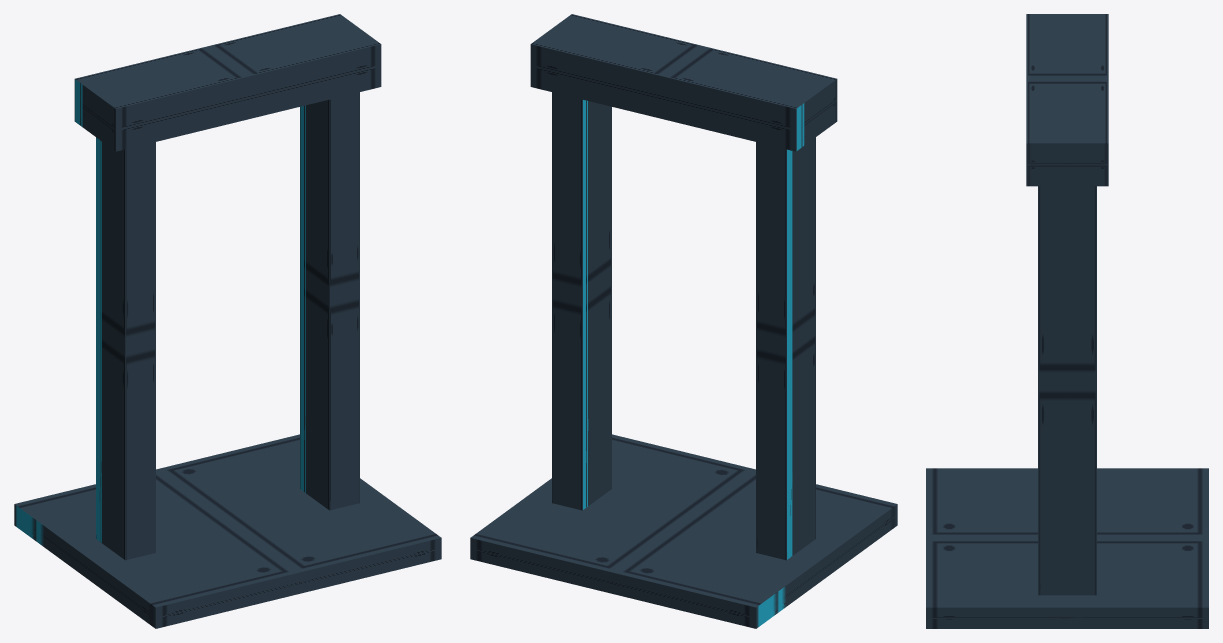
Rendered from Torre.obj.
3 renders of one model, left to right at view 1: azimuth 30°, elevation 25°; view 2: azimuth 150°, elevation 25°; view 3: azimuth 270°, elevation 25°, orthographic.
Visible parts, largest first — view 1: Cube, Cube.001, Cube.002, Cube.003; view 2: Cube, Cube.001, Cube.002, Cube.003; view 3: Cube, Cube.002, Cube.003.
Part boxes in pixels (<box>): Cube: <box>14,434,441,628</box>; Cube.001: <box>96,137,155,560</box>; Cube.002: <box>300,92,359,510</box>; Cube.003: <box>74,14,381,151</box>; Cube: <box>470,434,897,628</box>; Cube.001: <box>756,137,815,560</box>; Cube.002: <box>552,92,611,510</box>; Cube.003: <box>530,14,837,151</box>; Cube: <box>926,468,1208,628</box>; Cube.002: <box>1038,186,1096,595</box>; Cube.003: <box>1026,14,1108,186</box>.
Bounding box in the file's own units: 28 × 45 × 24.
1 material, 1 textured.
